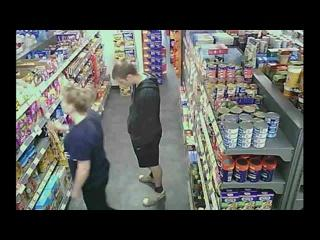Normal: (112, 61, 166, 206), (53, 84, 112, 211)
